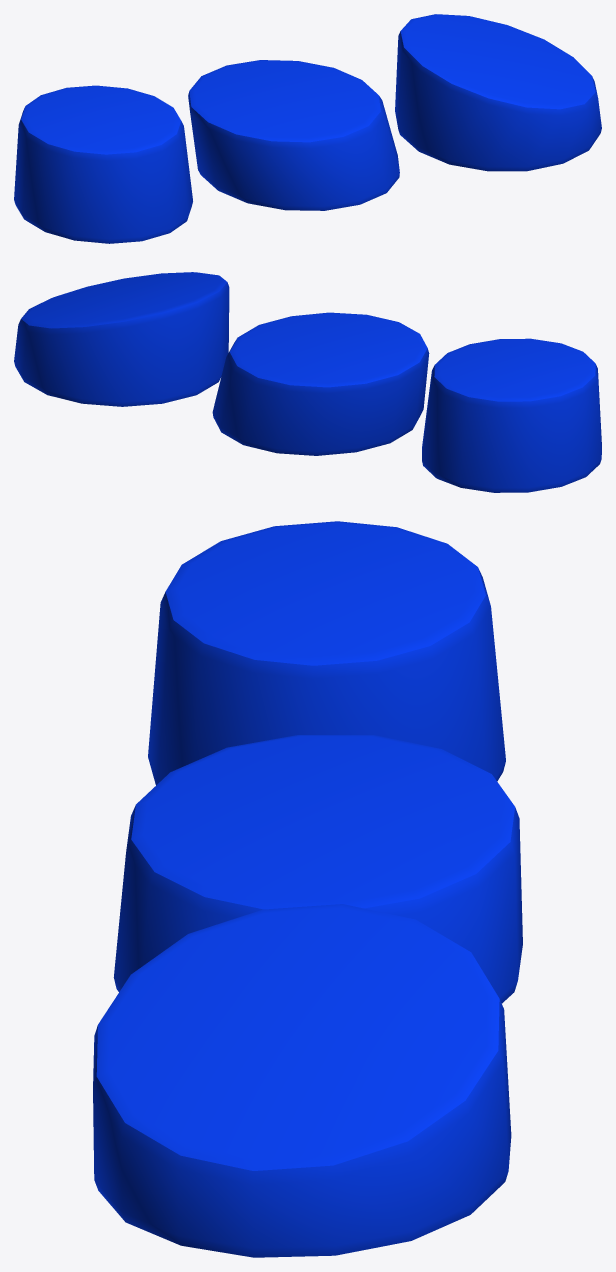
The model's file is SM_FP_RedPepper_Chopped.fbx.
3 views of the same model, one above another, from view 1: azimuth 30°, elevation 25°; view 2: azimuth 150°, elevation 25°; view 3: azimuth 270°, elevation 25° (orthographic). The views are drawn at different scales.
Parts seen in each view (by area): view 1: SM_FP_RedPepper_Chopped; view 2: SM_FP_RedPepper_Chopped; view 3: SM_FP_RedPepper_Chopped.
Boxes of the visible parts, bbox=[...] form: SM_FP_RedPepper_Chopped: bbox=[14, 14, 601, 243]; SM_FP_RedPepper_Chopped: bbox=[14, 272, 601, 492]; SM_FP_RedPepper_Chopped: bbox=[93, 521, 522, 1257].
Bounding box in the file's own units: 28.96 × 5.32 × 9.71.
